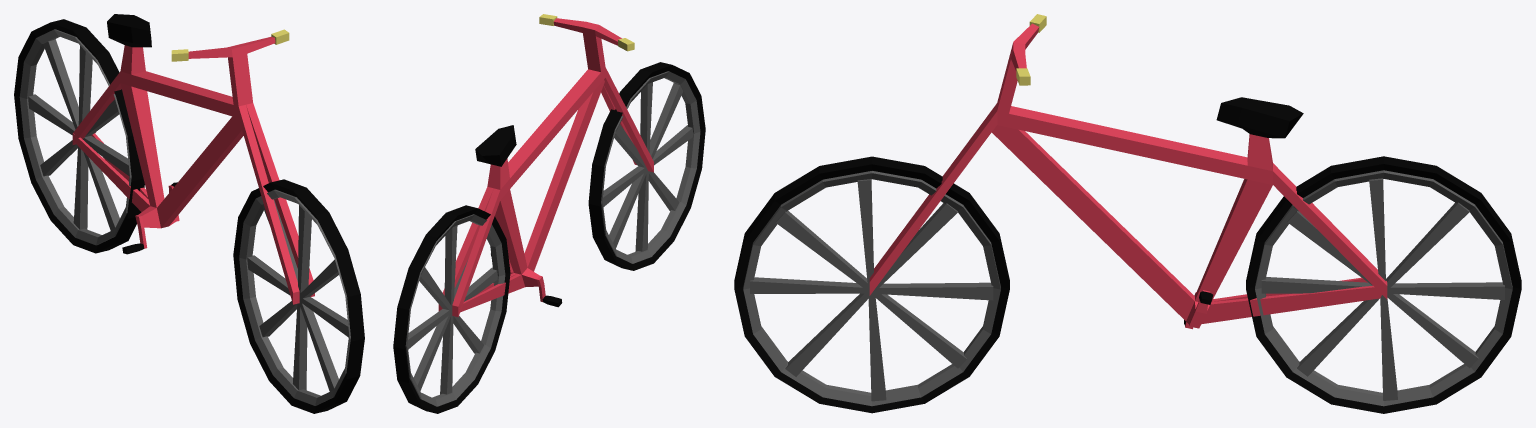
The model's file is Bicycle.fbx.
The picture shows the model from 3 angles, left to right: view 1: azimuth 30°, elevation 25°; view 2: azimuth 150°, elevation 25°; view 3: azimuth 270°, elevation 25°; orthographic projection. The views are drawn at different scales.
Parts seen in each view (by area): view 1: Rim, Spokes, Spokes2, Tire2, Tire, WheelRim2, WheelRim, Seat; view 2: Rim, Spokes2, Spokes, Tire, Tire2, WheelRim2, WheelRim, Seat; view 3: Rim, Spokes2, Spokes, Tire2, Tire, WheelRim2, WheelRim, Seat.
Part boxes in pixels (x1=…): Rim: x1=72, y1=36, x2=314, y2=304; Spokes: x1=28, y1=39, x2=129, y2=230; Spokes2: x1=247, y1=200, x2=348, y2=391; Tire2: x1=233, y1=179, x2=364, y2=413; Tire: x1=14, y1=19, x2=144, y2=253; WheelRim2: x1=239, y1=189, x2=350, y2=405; WheelRim: x1=19, y1=29, x2=131, y2=245; Seat: x1=107, y1=14, x2=151, y2=47; Rim: x1=438, y1=18, x2=653, y2=317; Spokes2: x1=602, y1=82, x2=693, y2=251; Spokes: x1=407, y1=225, x2=497, y2=394; Tire: x1=393, y1=205, x2=510, y2=413; Tire2: x1=588, y1=62, x2=705, y2=270; WheelRim2: x1=601, y1=71, x2=700, y2=263; WheelRim: x1=405, y1=214, x2=505, y2=406; Seat: x1=475, y1=125, x2=516, y2=166; Rim: x1=869, y1=23, x2=1387, y2=329; Spokes2: x1=750, y1=179, x2=993, y2=401; Spokes: x1=1261, y1=178, x2=1504, y2=400; Tire2: x1=734, y1=156, x2=1009, y2=413; Tire: x1=1246, y1=156, x2=1521, y2=413; WheelRim2: x1=743, y1=171, x2=1000, y2=406; WheelRim: x1=1255, y1=170, x2=1512, y2=406; Seat: x1=1216, y1=97, x2=1303, y2=138.
Bounding box in the file's own units: 108 × 291 × 571.
